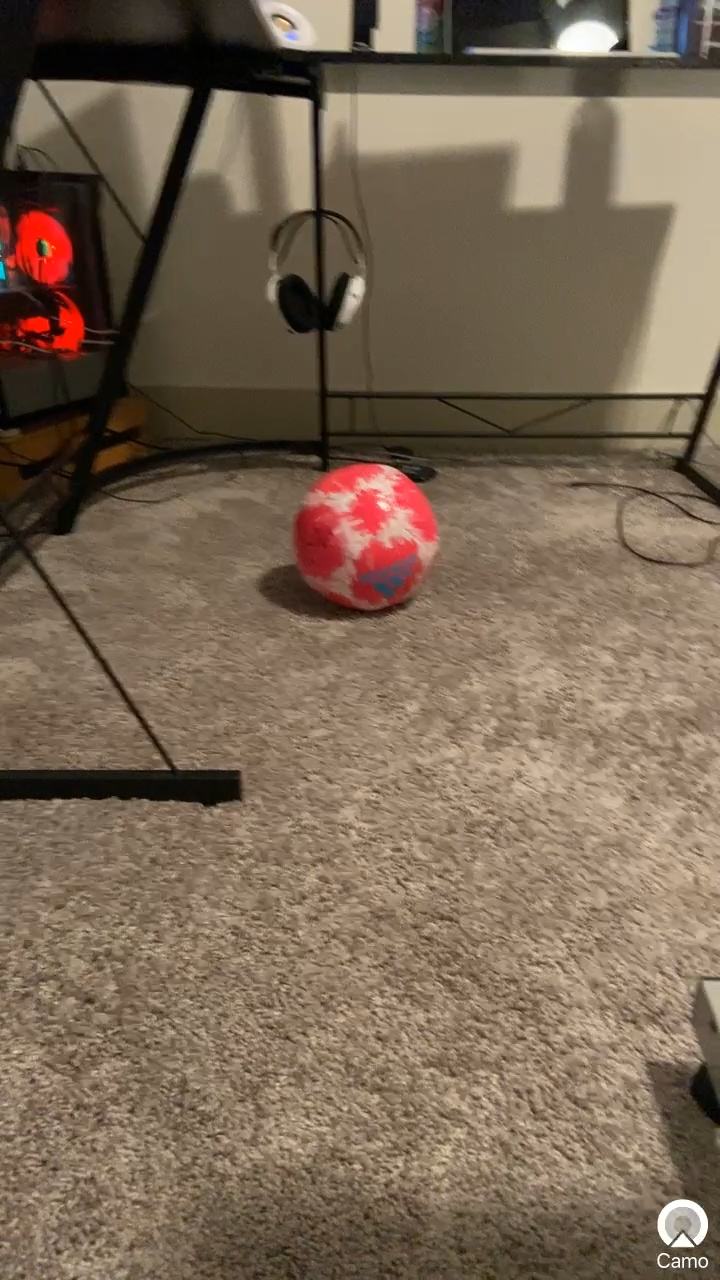Soccer_Ball: (272, 447, 459, 642)
